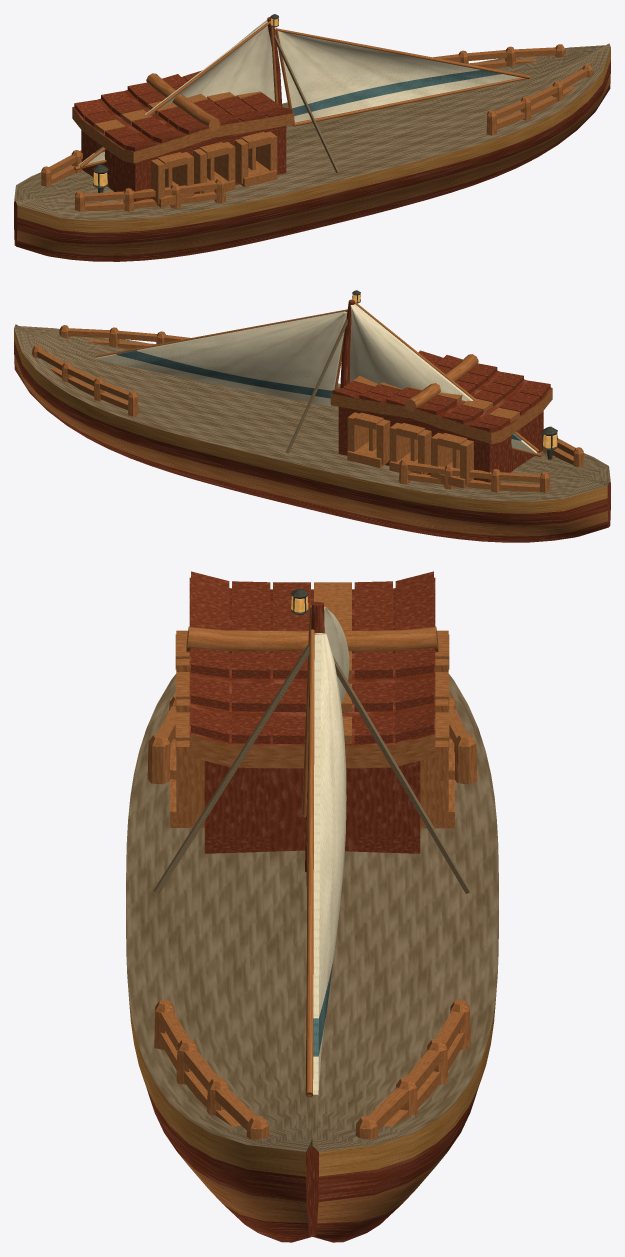
The model's file is tahoe_wooden_cruiser_mid.glb.
3 views of the same model, one above another, from view 1: azimuth 30°, elevation 25°; view 2: azimuth 150°, elevation 25°; view 3: azimuth 270°, elevation 25° (orthographic). The views are drawn at different scales.
Visible parts, largest first — view 1: tahoe_wooden_cruiser_mid; view 2: tahoe_wooden_cruiser_mid; view 3: tahoe_wooden_cruiser_mid.
Part boxes in pixels (x1,y1,x2,y2): tahoe_wooden_cruiser_mid: (14, 14, 610, 261); tahoe_wooden_cruiser_mid: (14, 290, 610, 542); tahoe_wooden_cruiser_mid: (126, 571, 498, 1242).
Bounding box in the file's own units: 12.5 × 4.4 × 3.4.
Materials: 2 (2 with a texture image).
